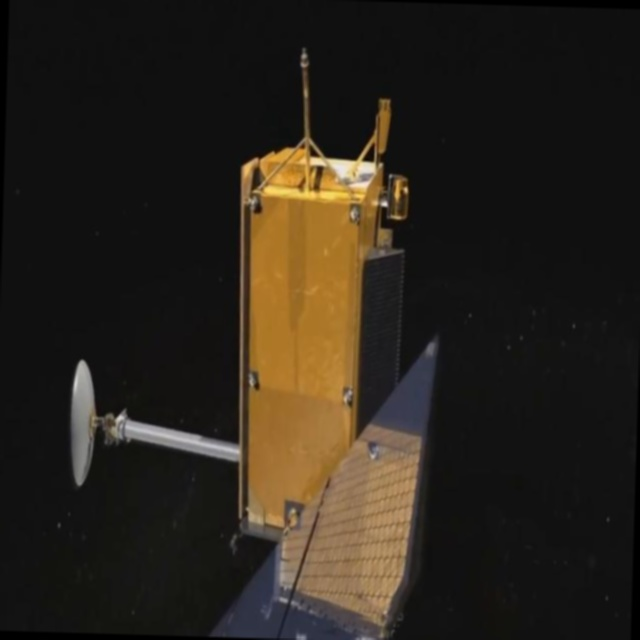satellite: (59, 0, 499, 640)
